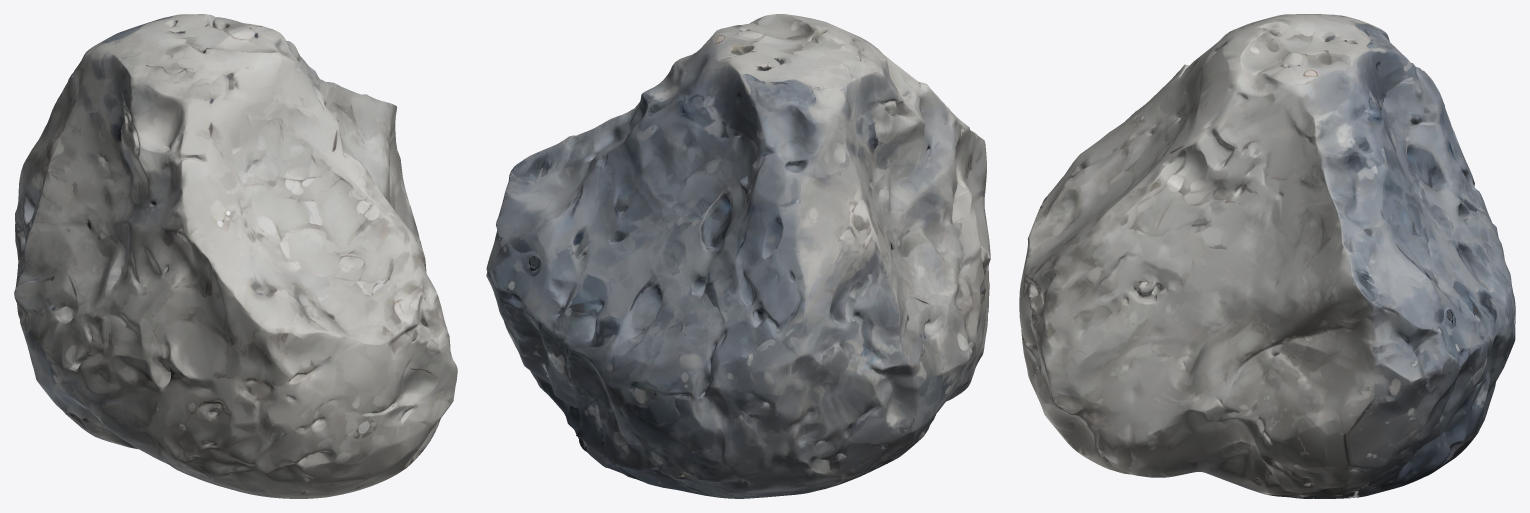
Rendered from nature-rock-small.glb.
3 renders of one model, left to right at view 1: azimuth 30°, elevation 25°; view 2: azimuth 150°, elevation 25°; view 3: azimuth 270°, elevation 25°, orthographic. The views are drawn at different scales.
Parts seen in each view (by area): view 1: tripo_node_0ce43b6d-0aef-4133-ad94-7682efa9cc3e; view 2: tripo_node_0ce43b6d-0aef-4133-ad94-7682efa9cc3e; view 3: tripo_node_0ce43b6d-0aef-4133-ad94-7682efa9cc3e.
Part boxes in pixels (x1,y1,x2,y2): tripo_node_0ce43b6d-0aef-4133-ad94-7682efa9cc3e: [14, 14, 457, 498]; tripo_node_0ce43b6d-0aef-4133-ad94-7682efa9cc3e: [486, 14, 990, 498]; tripo_node_0ce43b6d-0aef-4133-ad94-7682efa9cc3e: [1019, 14, 1515, 498].
Bounding box in the file's own units: 0.5027 × 0.5 × 0.5516.
1 material, 1 textured.
